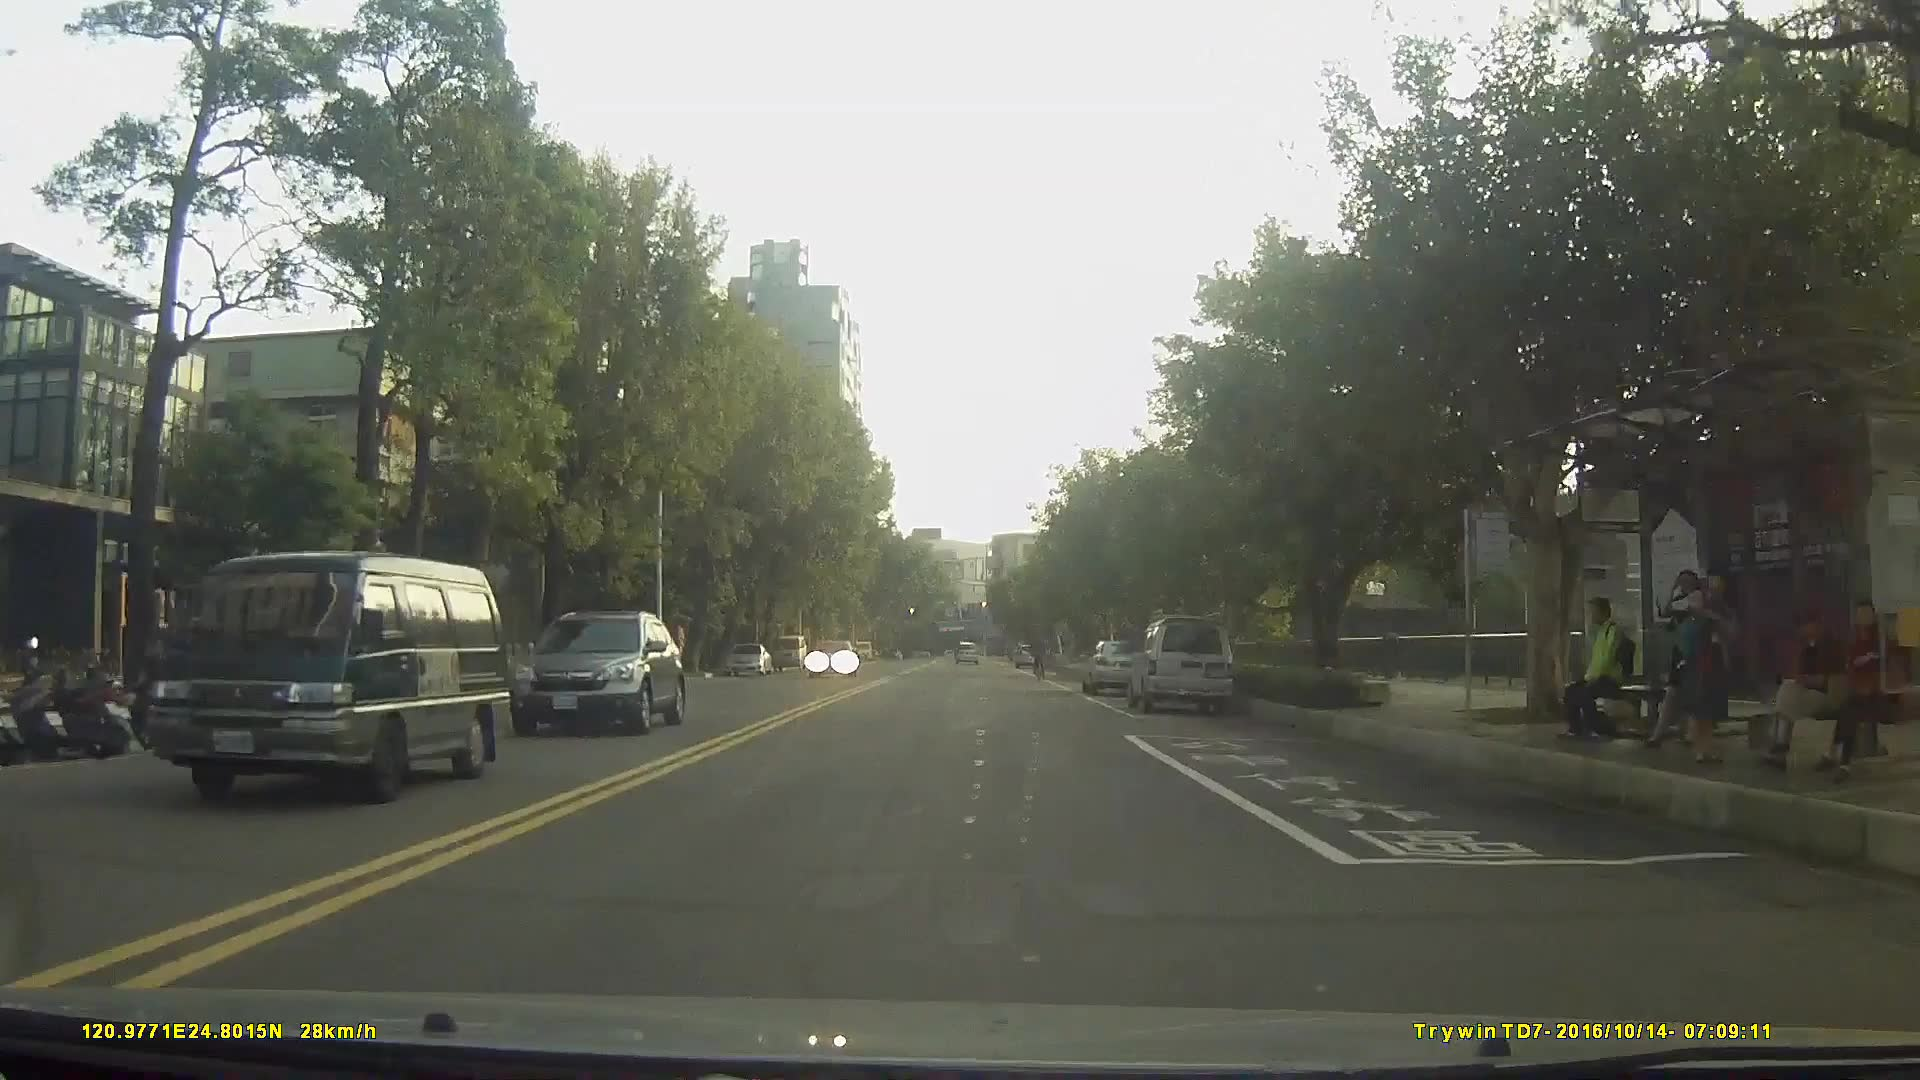pedestrian: (1825, 597, 1920, 778), (1759, 604, 1850, 780), (1662, 563, 1732, 766), (1564, 587, 1647, 744)
rider: (1030, 633, 1050, 685)
vehicle: (142, 546, 508, 805), (507, 607, 687, 731), (1128, 616, 1236, 713), (1082, 636, 1147, 693), (806, 636, 855, 677), (723, 639, 770, 676), (771, 630, 805, 673), (953, 637, 980, 666), (1015, 641, 1042, 667)
